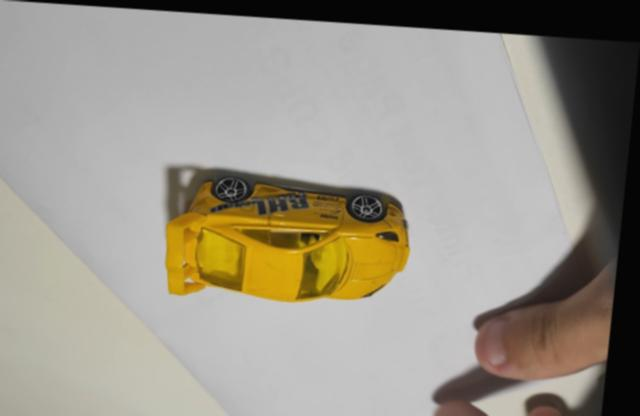07_RHLTURBO: (170, 169, 414, 298)
